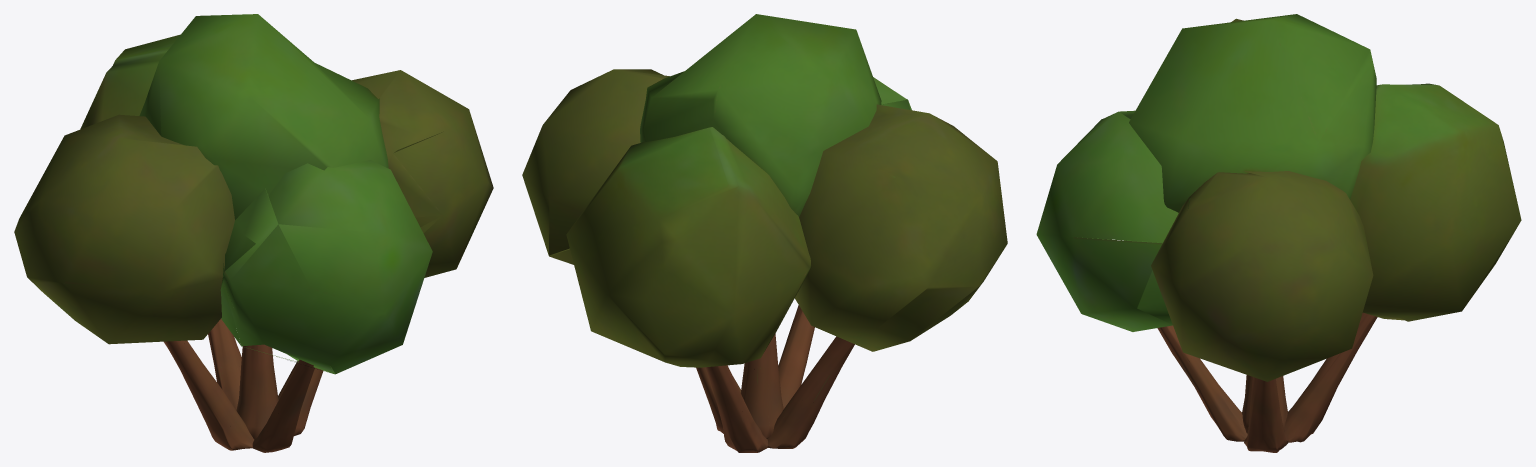
The model's file is 44-bush.glb.
The picture shows the model from 3 angles, left to right: view 1: azimuth 30°, elevation 25°; view 2: azimuth 150°, elevation 25°; view 3: azimuth 270°, elevation 25°; orthographic projection.
Parts seen in each view (by area): view 1: geometry_0; view 2: geometry_0; view 3: geometry_0.
Part boxes in pixels (x1,y1,x2,y2): geometry_0: [14, 14, 493, 452]; geometry_0: [522, 14, 1007, 452]; geometry_0: [1036, 14, 1521, 452].
Bounding box in the file's own units: 0.9551 × 0.8691 × 0.9146.
1 material, 1 textured.
